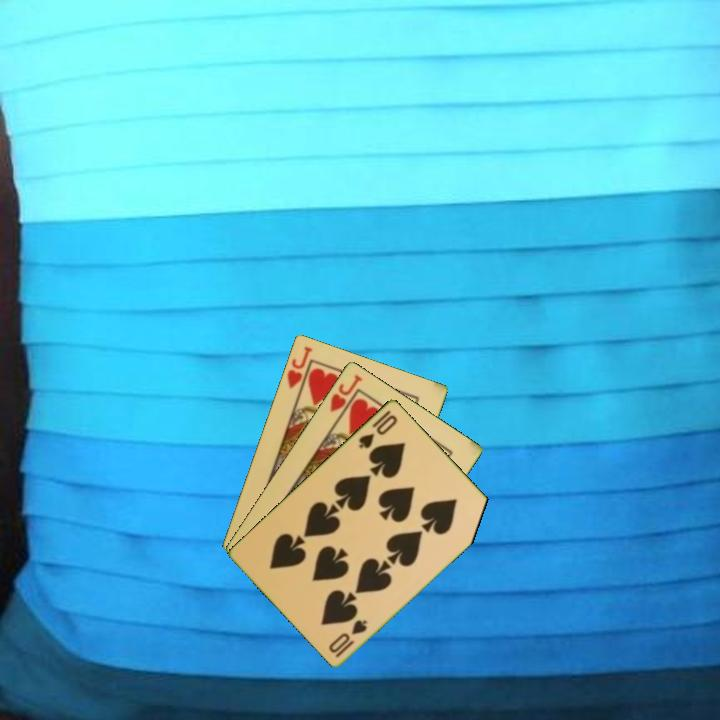10s: (325, 616, 370, 660), (355, 411, 400, 451)
Jh: (326, 371, 366, 424), (283, 342, 315, 399)
